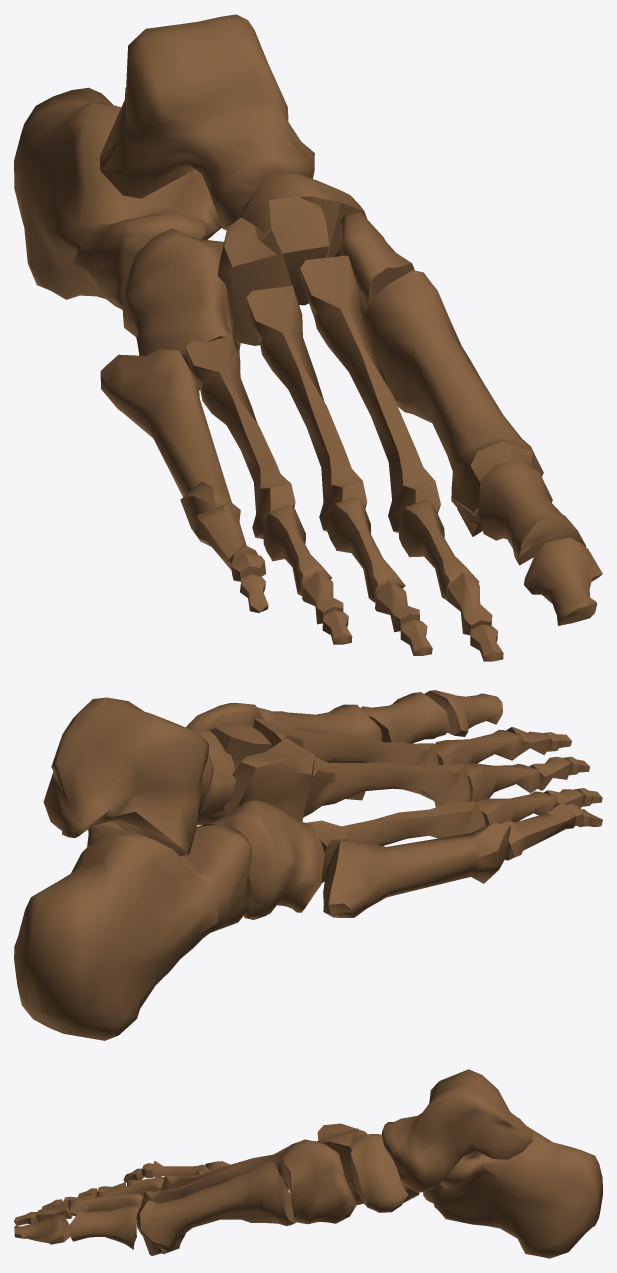
File: Foot bone.obj
3 views of the same model, one above another, from view 1: azimuth 30°, elevation 25°; view 2: azimuth 150°, elevation 25°; view 3: azimuth 270°, elevation 25° (orthographic). The views are drawn at different scales.
Visible parts, largest first — view 1: Talus02, Calcaneu02, Metatars09, Metatars08, Metatars06, Cuboid02, Metatars10, Metatars07, 1mid02, Lcuneifo02, 1distal02, Navicula02 (+11 smaller); view 2: Calcaneu02, Talus02, Metatars06, Cuboid02, Metatars08, Metatars10, Metatars07, Lcuneifo02, 1mid02, Metatars09, 1distal02, Pphaln02 (+7 smaller); view 3: Calcaneu02, Talus02, Metatars09, Mcuneifo02, Navicula02, Metatars08, 1mid02, 1distal02, Icuneifo02, Metatars10, Pphaln02, Phalange04 (+3 smaller).
Part boxes in pixels (<box>): Talus02: <box>99,14,314,230</box>; Calcaneu02: <box>14,87,221,310</box>; Metatars09: <box>364,270,543,536</box>; Metatars08: <box>298,255,479,600</box>; Metatars06: <box>100,349,231,546</box>; Cuboid02: <box>123,228,240,389</box>; Metatars10: <box>245,285,367,531</box>; Metatars07: <box>185,333,295,539</box>; 1mid02: <box>478,459,586,565</box>; Lcuneifo02: <box>218,217,290,345</box>; 1distal02: <box>524,537,602,625</box>; Navicula02: <box>237,172,366,261</box>; Calcaneu02: <box>14,821,253,1040</box>; Talus02: <box>43,697,213,856</box>; Metatars06: <box>323,822,510,917</box>; Cuboid02: <box>197,800,324,919</box>; Metatars08: <box>253,718,522,793</box>; Metatars10: <box>303,757,470,817</box>; Metatars07: <box>305,801,485,883</box>; Lcuneifo02: <box>224,738,314,821</box>; 1mid02: <box>360,692,450,743</box>; Metatars09: <box>257,704,382,800</box>; 1distal02: <box>424,690,502,736</box>; Pphaln02: <box>464,763,540,802</box>; Calcaneu02: <box>423,1126,602,1258</box>; Talus02: <box>382,1069,532,1192</box>; Metatars09: <box>136,1161,296,1255</box>; Mcuneifo02: <box>279,1140,357,1224</box>; Navicula02: <box>350,1134,408,1212</box>; Metatars08: <box>68,1139,306,1216</box>; 1mid02: <box>70,1205,140,1249</box>; 1distal02: <box>14,1214,70,1244</box>; Icuneifo02: <box>316,1128,358,1177</box>; Metatars10: <box>161,1141,315,1190</box>; Pphaln02: <box>97,1179,163,1197</box>; Phalange04: <box>152,1161,209,1177</box>.
Size of the model in its own units: 4.25 by 3.72 by 11.27.
